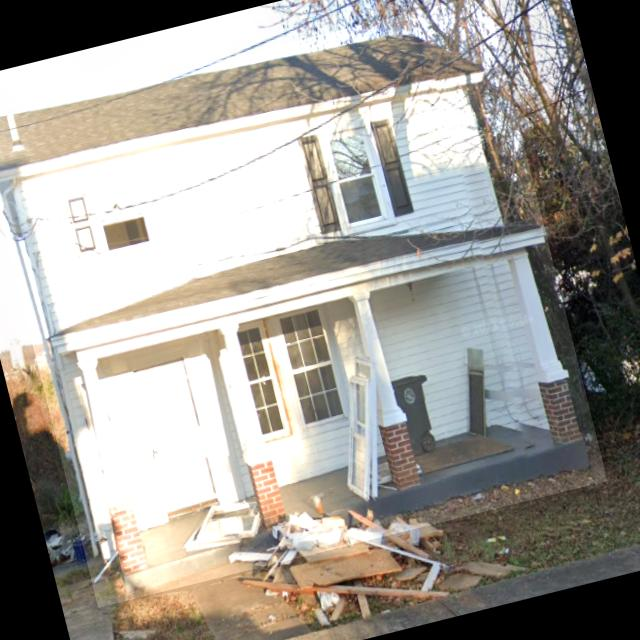House: (0, 0, 607, 607)
